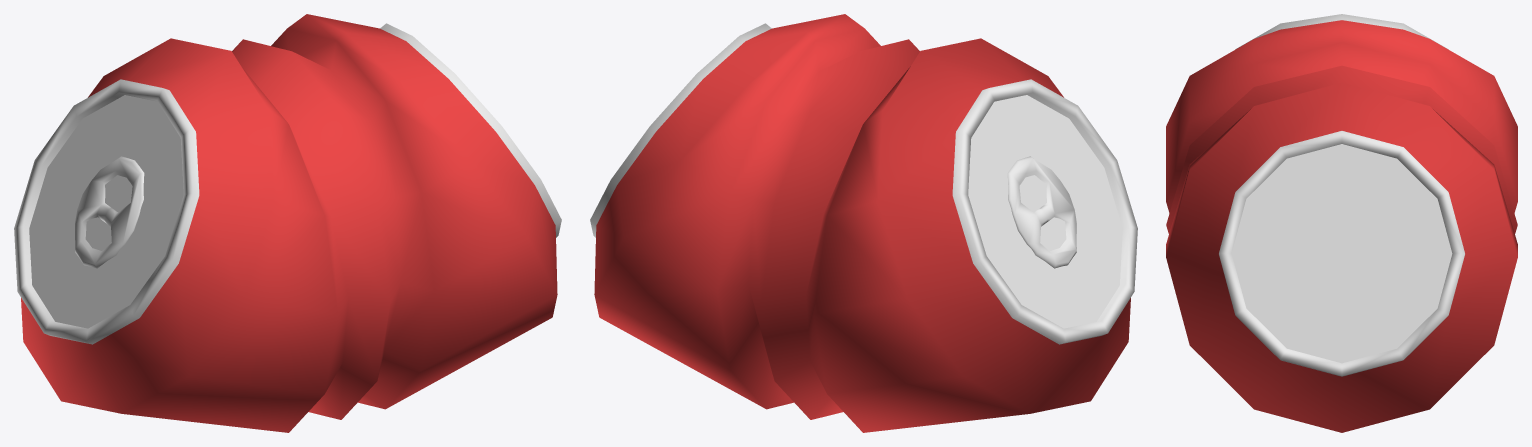
Rendered from Crushed_Soda_Can.glb.
The picture shows the model from 3 angles, left to right: view 1: azimuth 30°, elevation 25°; view 2: azimuth 150°, elevation 25°; view 3: azimuth 270°, elevation 25°; orthographic projection. The views are drawn at different scales.
Visible parts, largest first — view 1: Cylinder; view 2: Cylinder; view 3: Cylinder.
Boxes of the visible parts, <box> form: Cylinder: <box>14,14,561,432</box>; Cylinder: <box>590,14,1137,432</box>; Cylinder: <box>1166,14,1517,432</box>.
Size of the model in its own units: 0.0947 by 0.069 by 0.0661.
